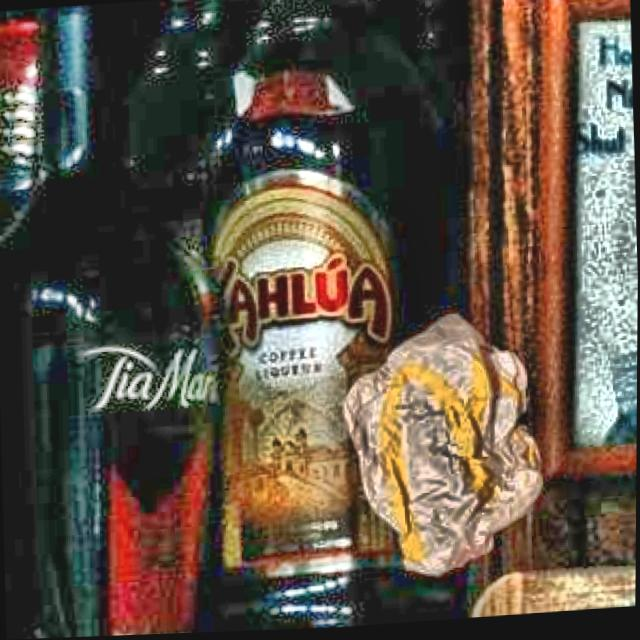Paper-bag: (327, 305, 559, 595)
